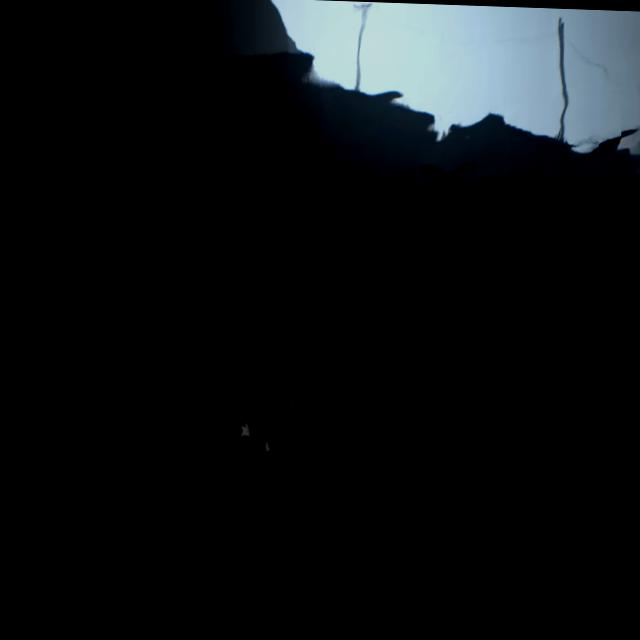boy: (238, 410, 272, 460)
